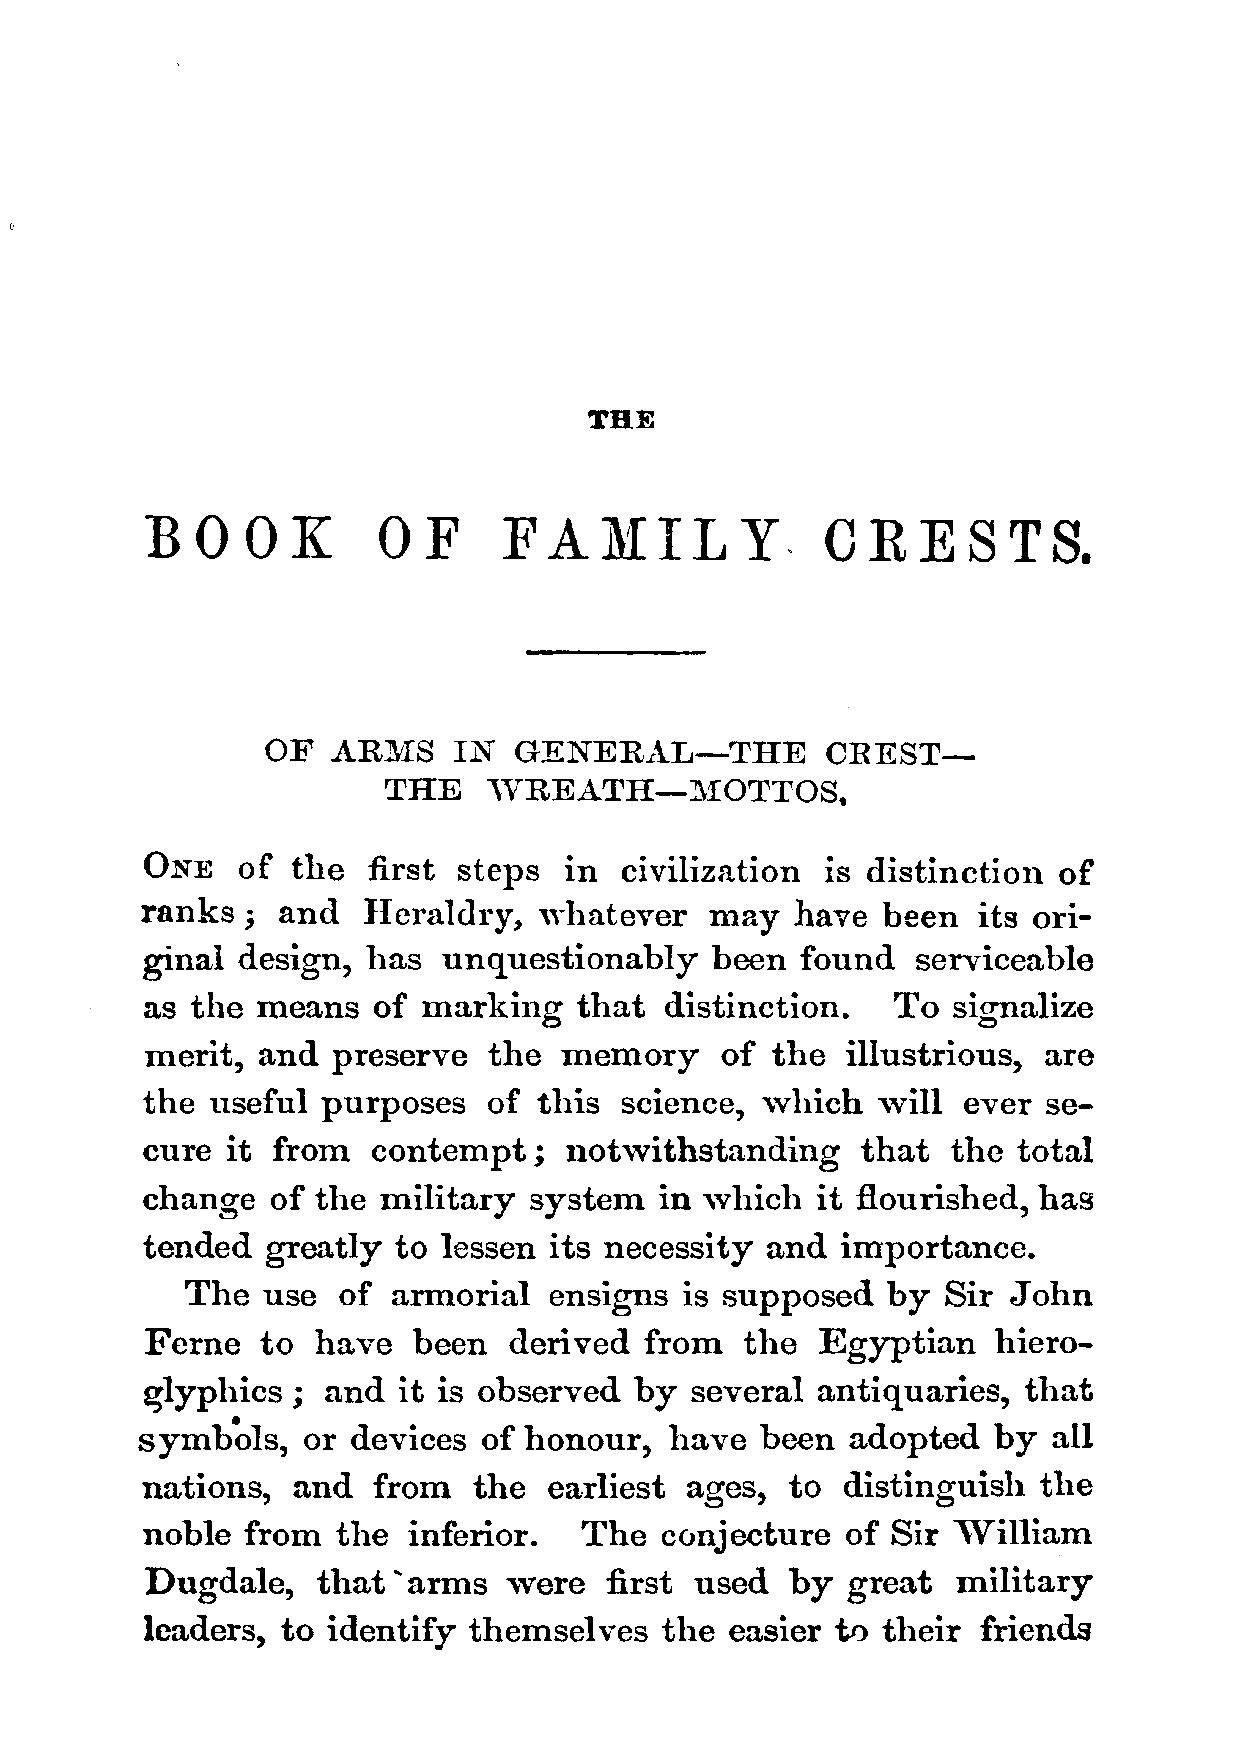chapter: (144, 405, 1092, 565), (258, 731, 977, 805)
content: (140, 845, 1099, 1651)
